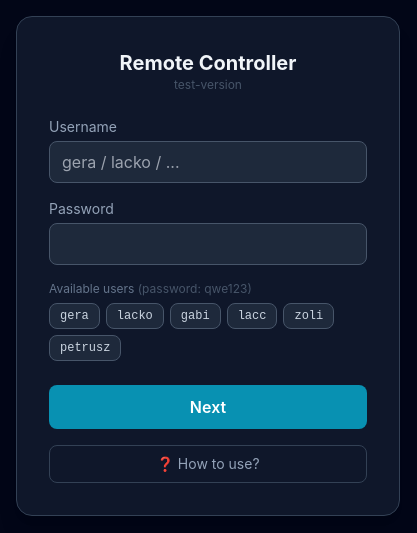
Test: LoginPage — step 1 › advances to step 2 on valid credentials
Type "gera" into the field labelled "Username" at coordinates (208, 162), box [49, 141, 367, 183]
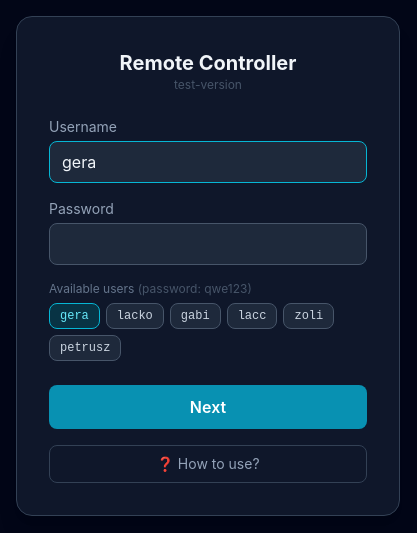
Type "qwe123" into the password field labelled "Password" at coordinates (208, 244), box [49, 223, 367, 265]
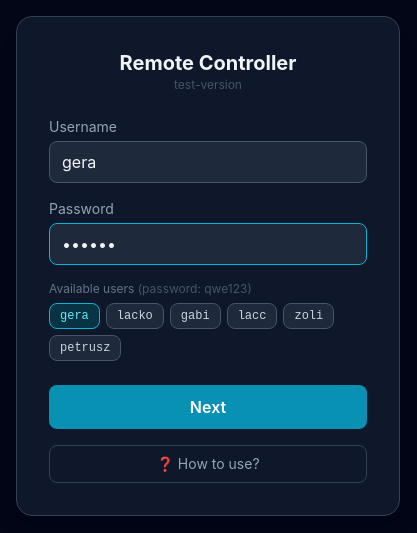
Click the button "Next" at coordinates (208, 407), box [49, 385, 367, 429]
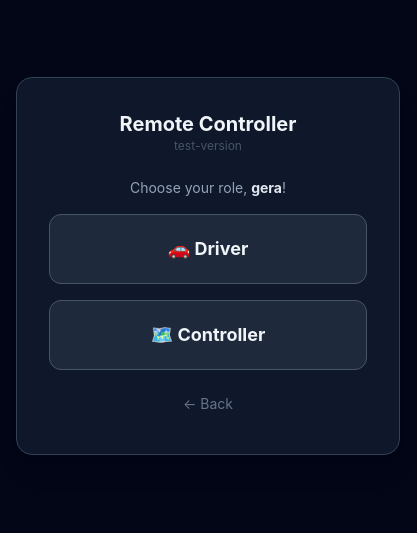
Check: the button "🚗 Driver" is shown, box [49, 214, 367, 284]
Check: the button "🗺️ Controller" is shown, box [49, 300, 367, 370]
